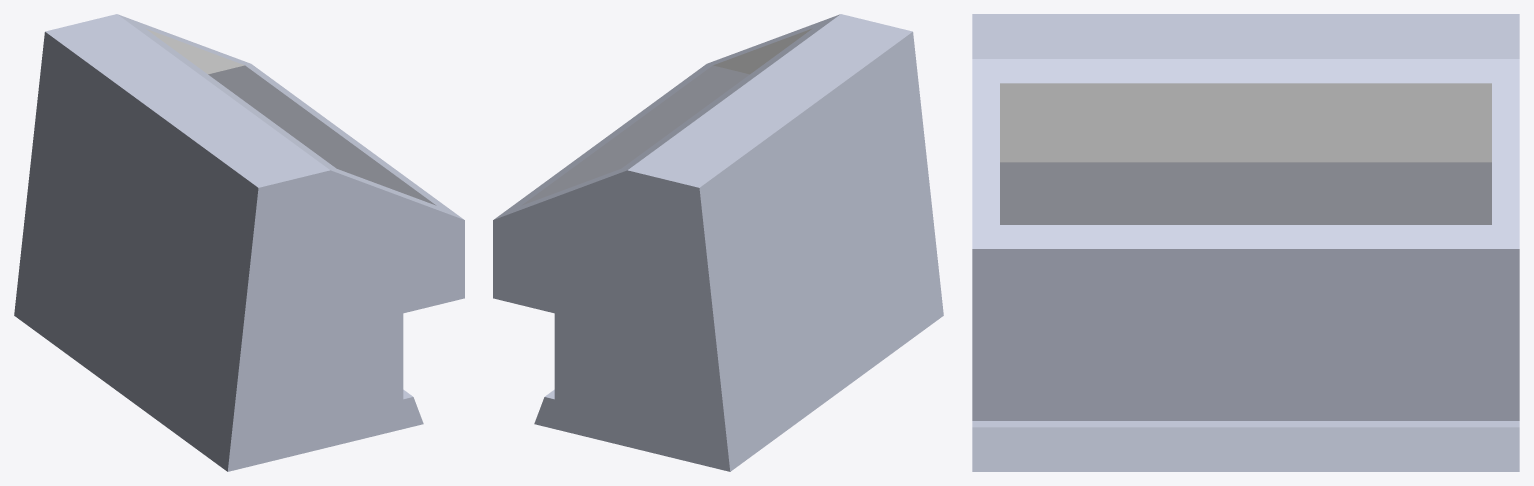
Rendered from spaceInterior_026.obj.
3 renders of one model, left to right at view 1: azimuth 30°, elevation 25°; view 2: azimuth 150°, elevation 25°; view 3: azimuth 270°, elevation 25°, orthographic. The views are drawn at different scales.
Visible parts, largest first — view 1: Mesh1 Group1 Model; view 2: Mesh1 Group1 Model; view 3: Mesh1 Group1 Model.
Part boxes in pixels (<box>): Mesh1 Group1 Model: <box>14,14,464,471</box>; Mesh1 Group1 Model: <box>493,14,943,471</box>; Mesh1 Group1 Model: <box>972,14,1519,471</box>.
Size of the model in its own units: 0.298 by 0.3321 by 0.4648.
